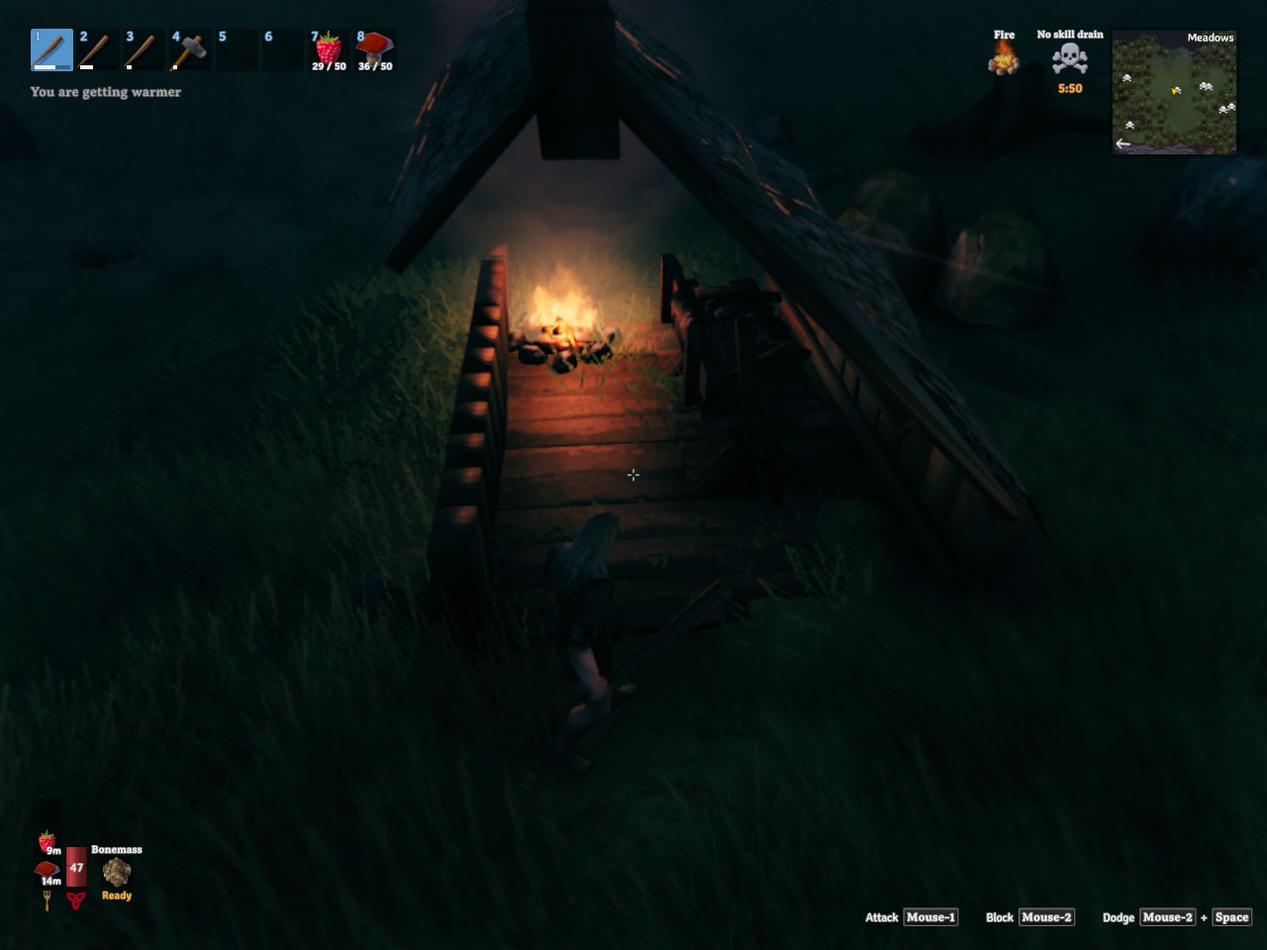Fire: (507, 299, 615, 360)
